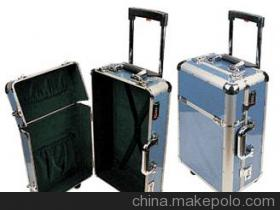luggage: (174, 9, 271, 191)
